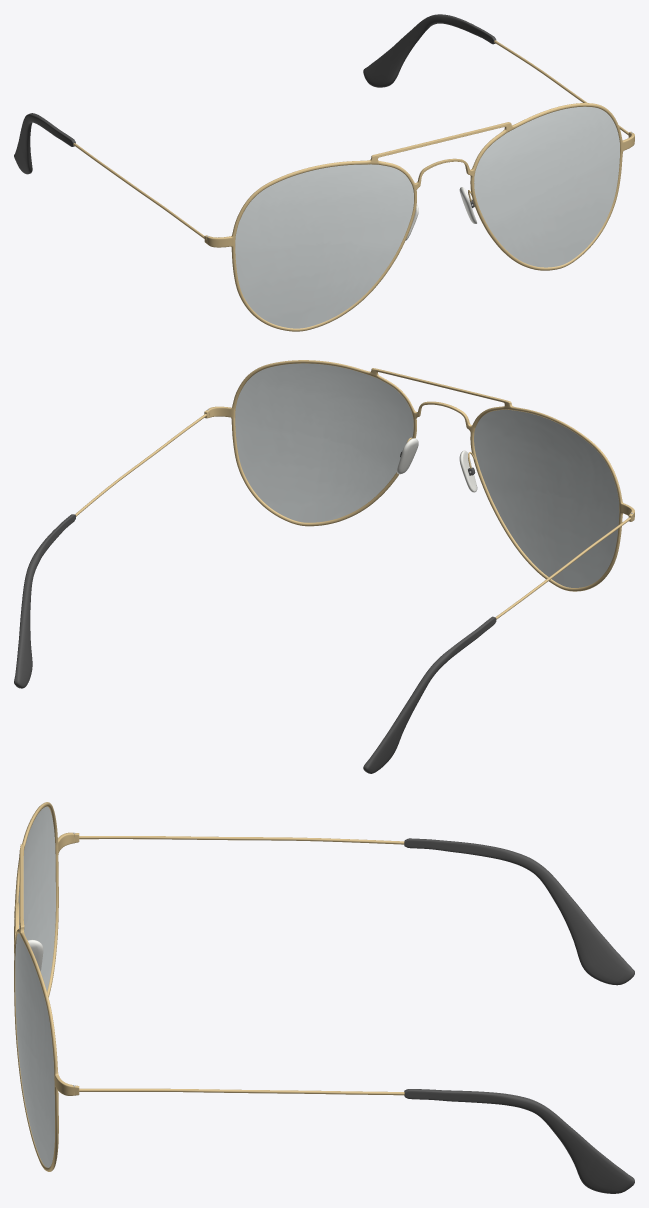
File: kapitaen.glb
3 renders of one model, top to bottom at view 1: azimuth 30°, elevation 25°; view 2: azimuth 150°, elevation 25°; view 3: azimuth 270°, elevation 25°, orthographic. The views are drawn at different scales.
Parts seen in each view (by area): view 1: kapitaen; view 2: kapitaen; view 3: kapitaen.
Part boxes in pixels (left/top/right/bottom): kapitaen: left=14, top=14, right=634, bottom=331; kapitaen: left=14, top=360, right=634, bottom=773; kapitaen: left=14, top=802, right=634, bottom=1193.
Bounding box in the file's own units: 14.4 × 5.39 × 14.84.
